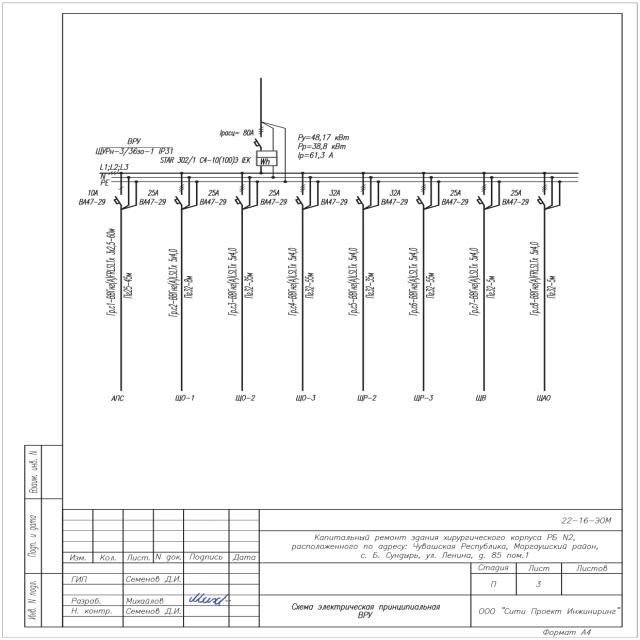-: (94, 137, 174, 155), (159, 157, 252, 166), (320, 188, 351, 208), (381, 188, 412, 208), (440, 188, 471, 208), (500, 188, 531, 208), (260, 188, 290, 208), (199, 188, 229, 208), (138, 188, 168, 208), (77, 188, 107, 208), (214, 127, 256, 139)
QF: (253, 125, 267, 148), (173, 183, 186, 206), (112, 184, 125, 206), (537, 183, 549, 206), (234, 184, 246, 207), (414, 183, 426, 206), (294, 184, 306, 206), (354, 183, 366, 205), (476, 184, 488, 206)
WH: (254, 150, 279, 168)
